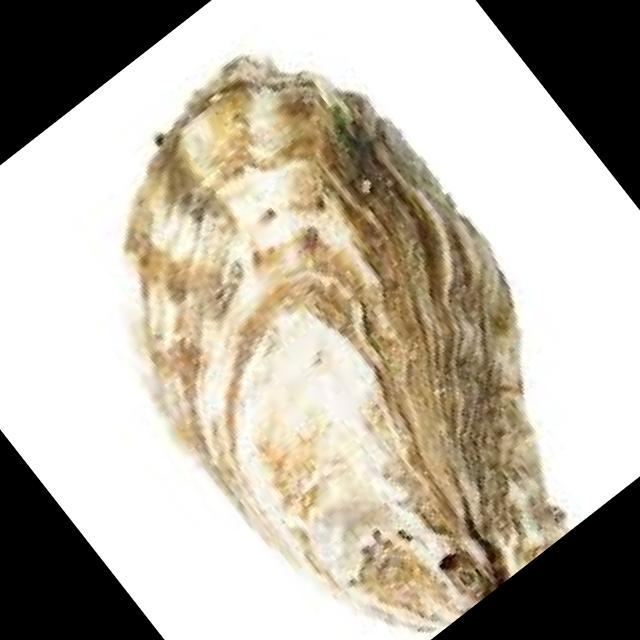Oyster- Indeterminate: (126, 56, 565, 629)
